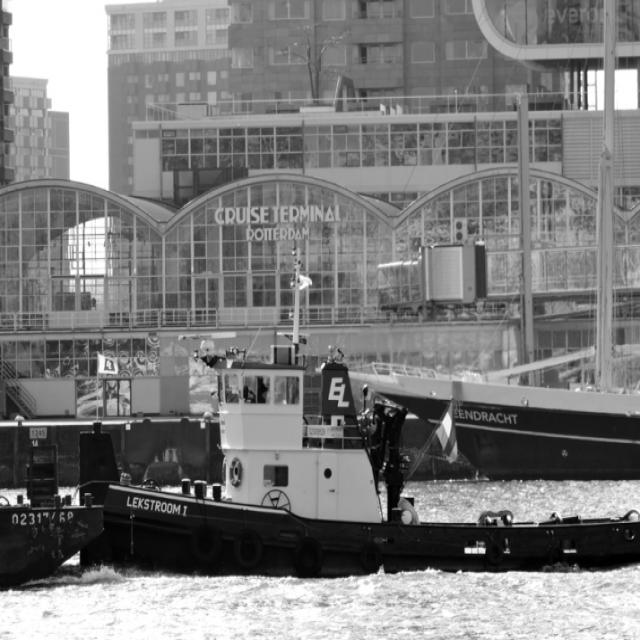tugboat: (102, 329, 640, 585)
